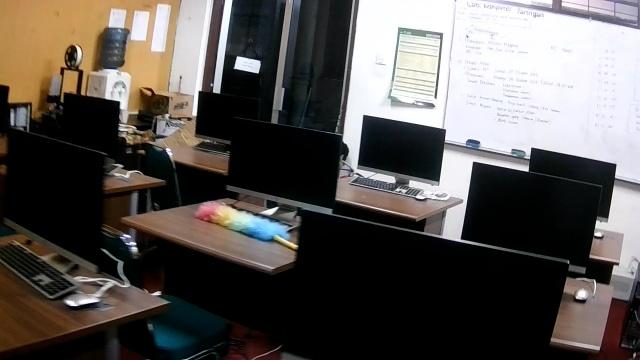AIO PC-Monitor-TV: (461, 159, 602, 275), (225, 117, 343, 217), (356, 113, 446, 186)
Whiteboard: (440, 0, 639, 186)
